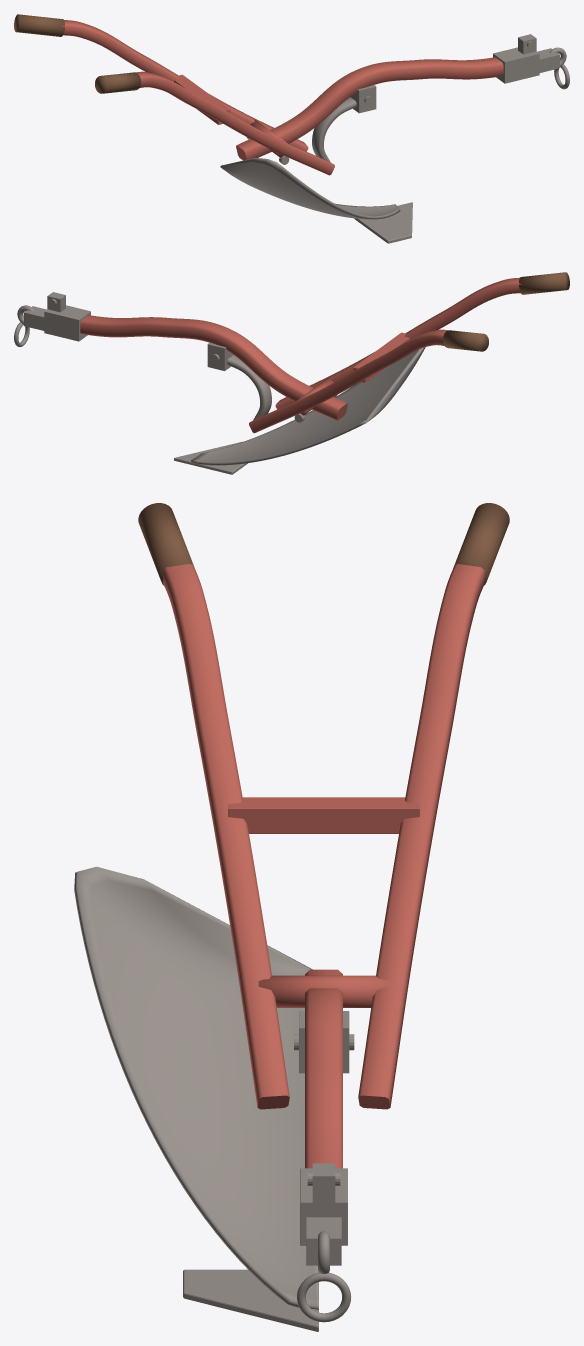
File: plow.glb
The picture shows the model from 3 angles, top to bottom: view 1: azimuth 30°, elevation 25°; view 2: azimuth 150°, elevation 25°; view 3: azimuth 270°, elevation 25°; orthographic projection. The views are drawn at different scales.
Parts seen in each view (by area): view 1: Beam, Moldboard, Handle_R, Handle_L, Share, Hitch_Collar, Grip_L, Grip_R, Standard, Crossbar, Standard_Clamp, Hitch_Clevis; view 2: Moldboard, Beam, Handle_L, Handle_R, Hitch_Collar, Grip_R, Grip_L, Standard, Share, Crossbar, Standard_Clamp, Hitch_Clevis (+1 smaller); view 3: Moldboard, Handle_L, Handle_R, Beam, Crossbar, Share, Pivot_Rod, Grip_L, Grip_R, Hitch_Collar, Hitch_Clevis, Hitch_Ring.
Part boxes in pixels (x1,y1,x2,y2): Beam: [236, 57, 503, 160]; Moldboard: [220, 157, 400, 219]; Handle_R: [135, 71, 334, 175]; Handle_L: [62, 20, 308, 151]; Share: [354, 202, 412, 243]; Hitch_Collar: [493, 47, 539, 83]; Grip_L: [14, 14, 64, 36]; Grip_R: [95, 72, 141, 93]; Standard: [312, 97, 356, 162]; Crossbar: [174, 74, 230, 124]; Standard_Clamp: [350, 85, 376, 113]; Hitch_Clevis: [537, 48, 559, 72]; Moldboard: [191, 347, 425, 465]; Beam: [80, 315, 347, 420]; Handle_L: [249, 329, 447, 433]; Handle_R: [275, 277, 522, 409]; Hitch_Collar: [44, 305, 90, 341]; Grip_R: [519, 272, 569, 294]; Grip_L: [442, 330, 488, 351]; Standard: [227, 355, 271, 420]; Share: [174, 441, 247, 474]; Crossbar: [353, 332, 409, 382]; Standard_Clamp: [207, 342, 233, 370]; Hitch_Clevis: [24, 306, 46, 330]; Moldboard: [74, 867, 318, 1310]; Handle_L: [358, 562, 484, 1109]; Handle_R: [163, 563, 289, 1109]; Beam: [305, 969, 342, 1168]; Crossbar: [228, 797, 419, 833]; Share: [183, 1269, 318, 1331]; Pivot_Rod: [258, 975, 389, 1007]; Grip_L: [453, 503, 509, 585]; Grip_R: [138, 503, 193, 585]; Hitch_Collar: [300, 1168, 347, 1245]; Hitch_Clevis: [306, 1217, 341, 1265]; Hitch_Ring: [297, 1272, 351, 1322].
Size of the model in its own units: 2.34 by 1.07 by 0.8655.
